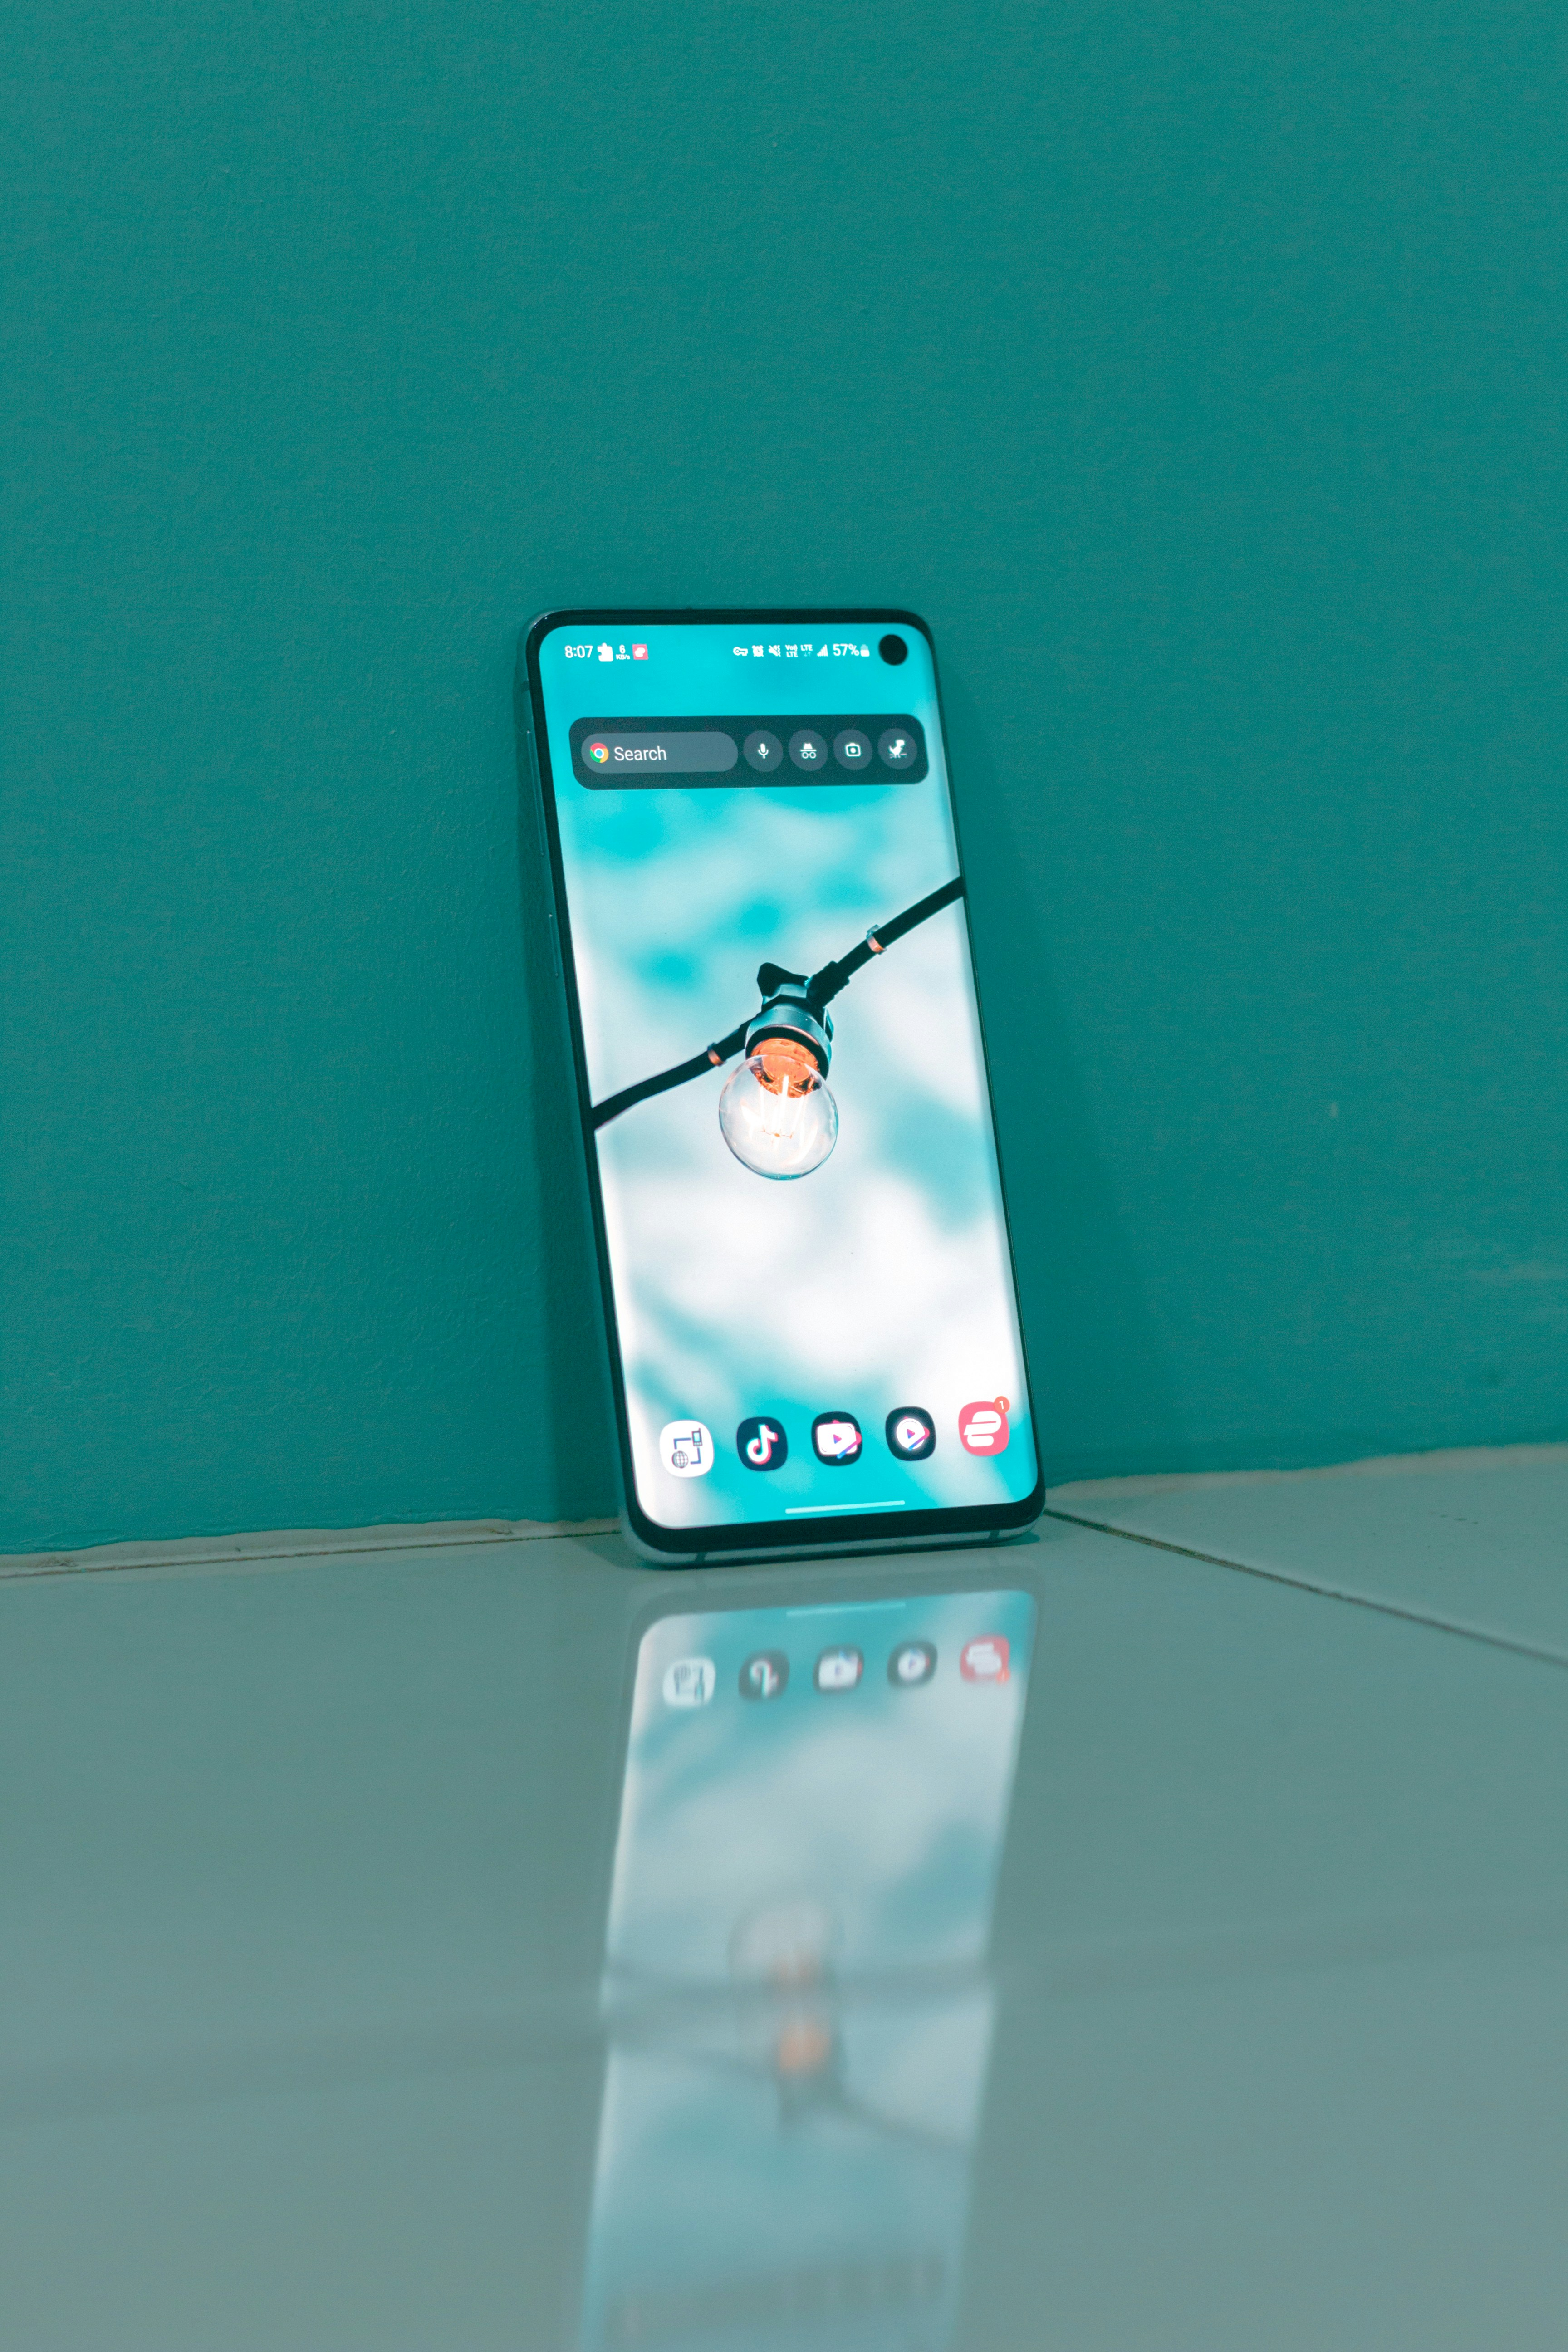p6: (506, 593, 1085, 1577)
